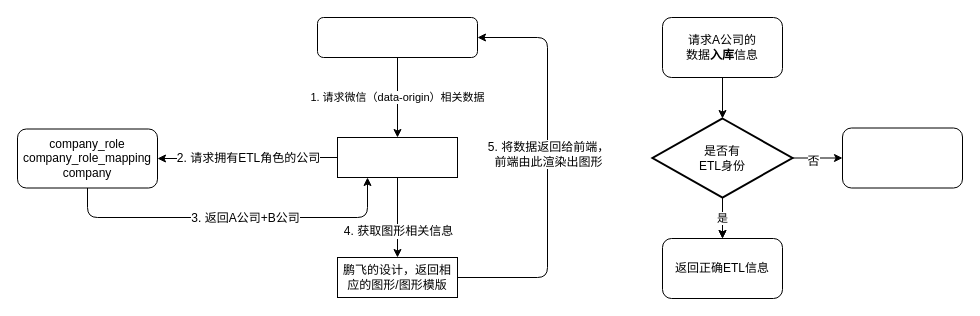
This 980x316 diagram has some shape labels left out. The shapes that lost their labels are listed below. From the top down, each one's centre as x and y in pixels, then its label:
[397,37]: 数据链路监控页面
[397,157]: data-chain
[902,157]: 返回错误提示
